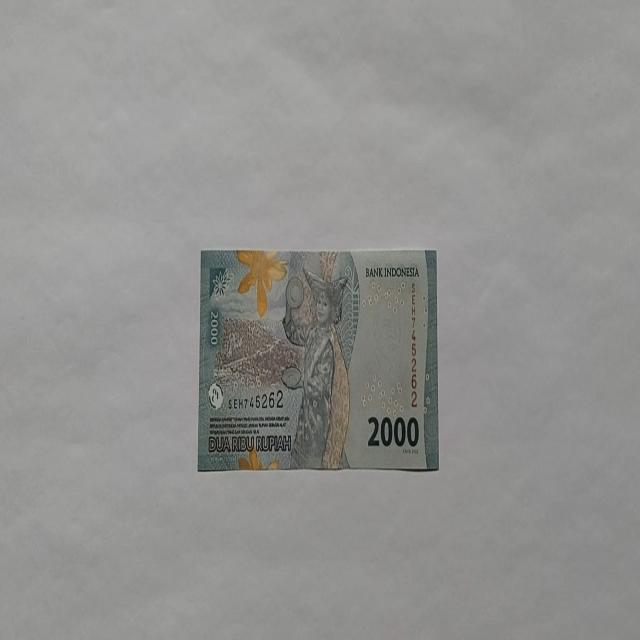dua ribu rupiah: (197, 247, 439, 472), (280, 264, 352, 470)
